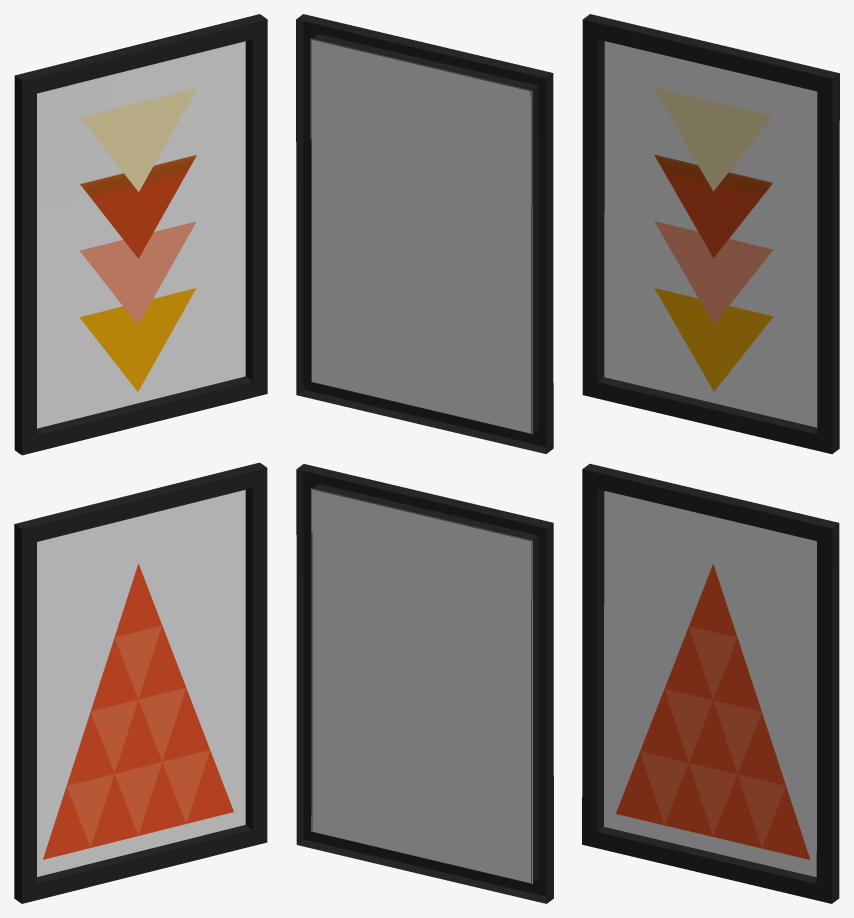
The model's file is Scenery2.fbx.
3 renders of one model, left to right at view 1: azimuth 30°, elevation 25°; view 2: azimuth 150°, elevation 25°; view 3: azimuth 330°, elevation 25°, orthographic.
Visible parts, largest first — view 1: Scenery2; view 2: Scenery2; view 3: Scenery2.
Part boxes in pixels (x1,y1,x2,y2): Scenery2: (14, 14, 267, 903); Scenery2: (296, 14, 553, 903); Scenery2: (582, 14, 839, 903).
Bounding box in the file's own units: 21.97 × 69.73 × 1.46.
